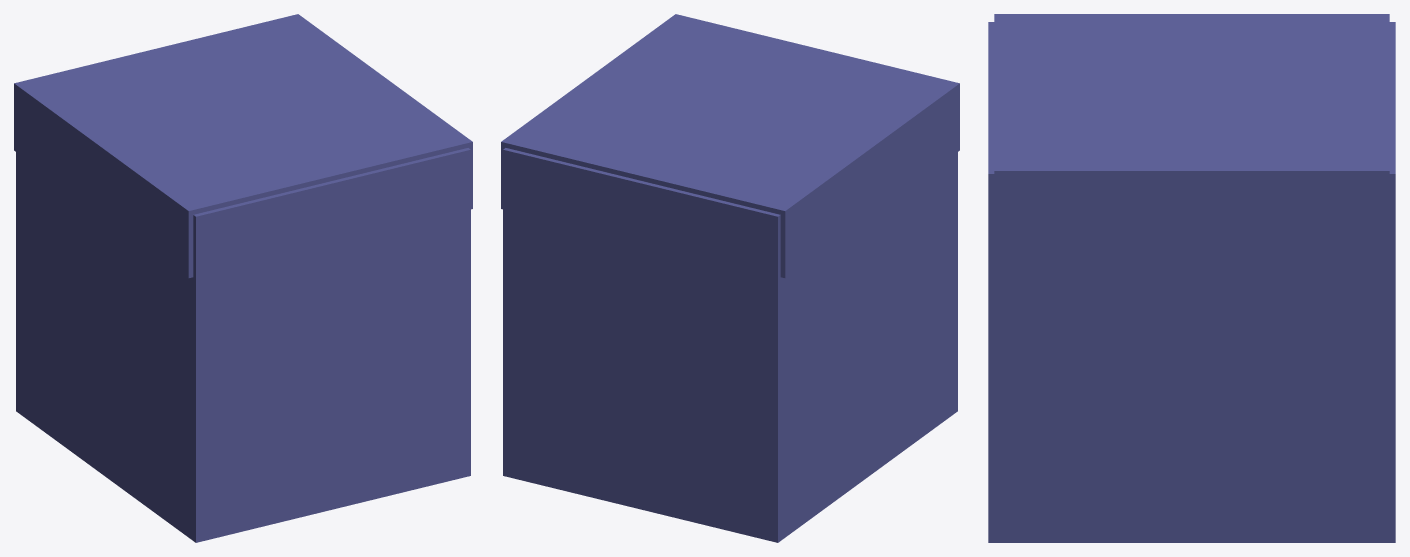
File: kimono_manga_sup.glb
The picture shows the model from 3 angles, left to right: view 1: azimuth 30°, elevation 25°; view 2: azimuth 150°, elevation 25°; view 3: azimuth 270°, elevation 25°; orthographic projection. The views are drawn at different scales.
Visible parts, largest first — view 1: kimono_manga_sup; view 2: kimono_manga_sup; view 3: kimono_manga_sup.
Boxes of the visible parts, x1,y1,x2,y2 form: kimono_manga_sup: (14,14,472,542); kimono_manga_sup: (501,14,959,542); kimono_manga_sup: (988,14,1395,542).
Bounding box in the file's own units: 0.31 × 0.345 × 0.34.
